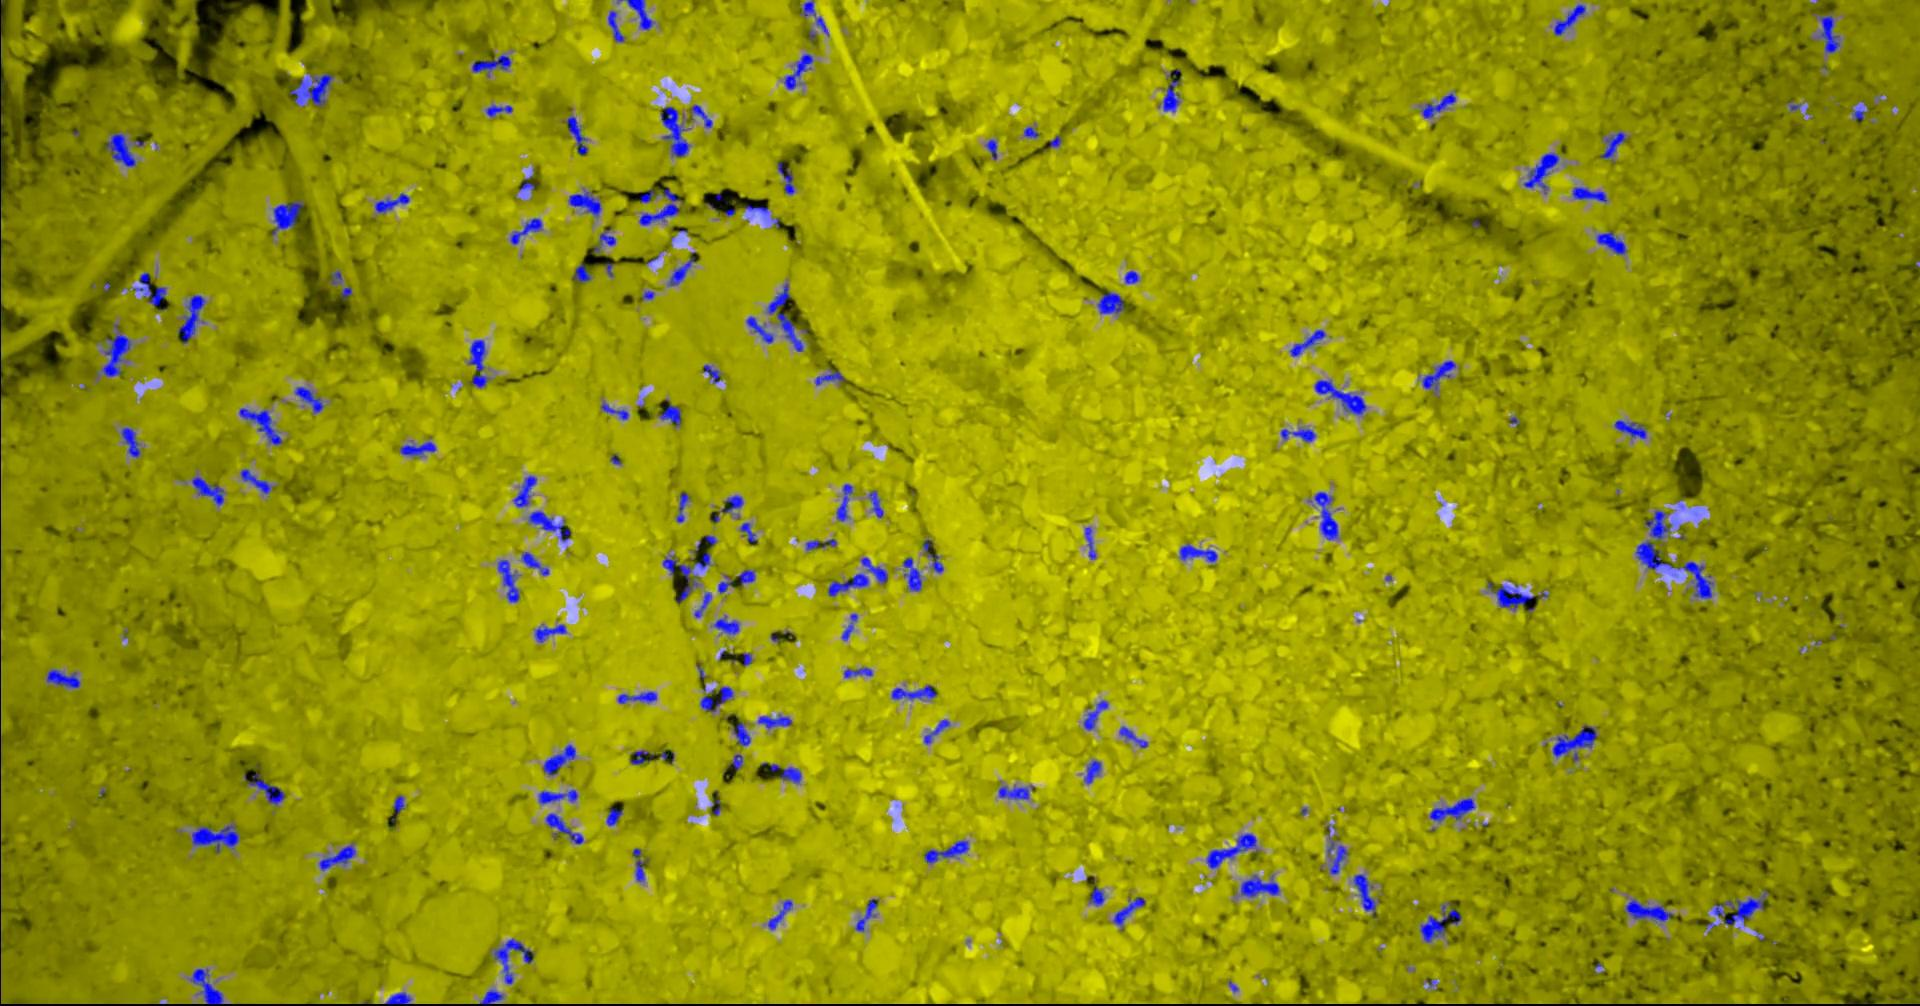ant: (766, 283, 803, 351), (1713, 889, 1768, 923), (1314, 379, 1366, 414), (494, 937, 533, 984), (1206, 833, 1256, 868), (237, 406, 282, 445), (1552, 724, 1596, 761), (662, 555, 697, 601), (639, 187, 679, 225), (1420, 904, 1460, 942), (660, 105, 690, 158), (1523, 152, 1558, 193), (290, 72, 333, 105), (177, 293, 204, 343), (1486, 580, 1534, 608), (1310, 492, 1338, 539), (190, 824, 237, 852), (1676, 561, 1712, 598), (528, 511, 570, 541), (102, 333, 130, 376), (190, 968, 222, 1005), (545, 813, 583, 843), (270, 199, 303, 234), (248, 774, 284, 804), (1636, 540, 1674, 569), (1429, 796, 1474, 821), (133, 272, 165, 306), (617, 0, 653, 29), (923, 840, 968, 862), (317, 843, 356, 870), (1625, 899, 1672, 921), (1553, 4, 1585, 36), (1112, 897, 1144, 929), (800, 0, 828, 36), (783, 53, 811, 89), (497, 559, 519, 602), (467, 339, 488, 387), (105, 133, 135, 166), (1422, 359, 1455, 389), (190, 476, 223, 506), (1289, 329, 1324, 356), (1352, 874, 1375, 915), (543, 744, 575, 774), (1158, 69, 1180, 111), (827, 573, 869, 594), (1420, 91, 1455, 117), (471, 55, 510, 76), (1239, 874, 1279, 895), (1599, 131, 1625, 163), (700, 686, 733, 711), (568, 191, 599, 216), (1644, 511, 1671, 540), (1818, 15, 1839, 53), (566, 116, 587, 154), (510, 218, 541, 244), (240, 467, 270, 493), (855, 898, 877, 931), (668, 257, 695, 285), (745, 316, 773, 343), (767, 899, 792, 929), (1083, 700, 1107, 730), (1178, 542, 1217, 561), (922, 539, 943, 572), (295, 386, 323, 412), (375, 193, 409, 213), (513, 475, 536, 506), (1327, 840, 1347, 874), (891, 683, 936, 699), (521, 551, 549, 575), (860, 558, 888, 582), (1596, 231, 1625, 254), (923, 719, 949, 744), (658, 399, 681, 426), (836, 483, 852, 520), (902, 558, 921, 589), (770, 763, 801, 782), (1571, 185, 1606, 202), (46, 669, 79, 687), (1119, 727, 1147, 747), (1613, 420, 1644, 438), (535, 624, 566, 641), (399, 441, 436, 456), (537, 789, 577, 803), (1097, 291, 1123, 312), (121, 427, 138, 457), (777, 163, 794, 194), (690, 104, 712, 127), (815, 367, 844, 385), (607, 10, 623, 41), (601, 401, 629, 419), (998, 785, 1034, 799), (593, 229, 615, 251), (712, 615, 738, 634), (757, 714, 791, 728), (632, 848, 646, 882), (731, 721, 750, 746), (1280, 428, 1316, 441), (717, 495, 743, 513), (617, 691, 657, 702), (841, 614, 857, 640), (676, 492, 690, 522), (695, 592, 711, 617), (571, 260, 590, 282), (1083, 760, 1100, 782), (869, 490, 883, 517), (385, 991, 411, 1005), (479, 989, 503, 1005), (604, 807, 623, 826), (805, 539, 836, 550), (702, 365, 720, 384), (740, 522, 757, 542), (1084, 527, 1095, 559), (630, 749, 653, 763), (485, 104, 512, 116), (843, 667, 872, 677), (737, 569, 754, 584), (1088, 887, 1103, 904), (693, 553, 709, 569), (639, 188, 657, 202), (519, 175, 535, 191), (745, 203, 768, 213), (392, 795, 404, 814), (985, 138, 996, 159), (728, 754, 742, 768), (710, 798, 720, 815), (1124, 271, 1138, 283), (329, 271, 342, 283), (1023, 126, 1037, 137), (717, 580, 731, 592)
